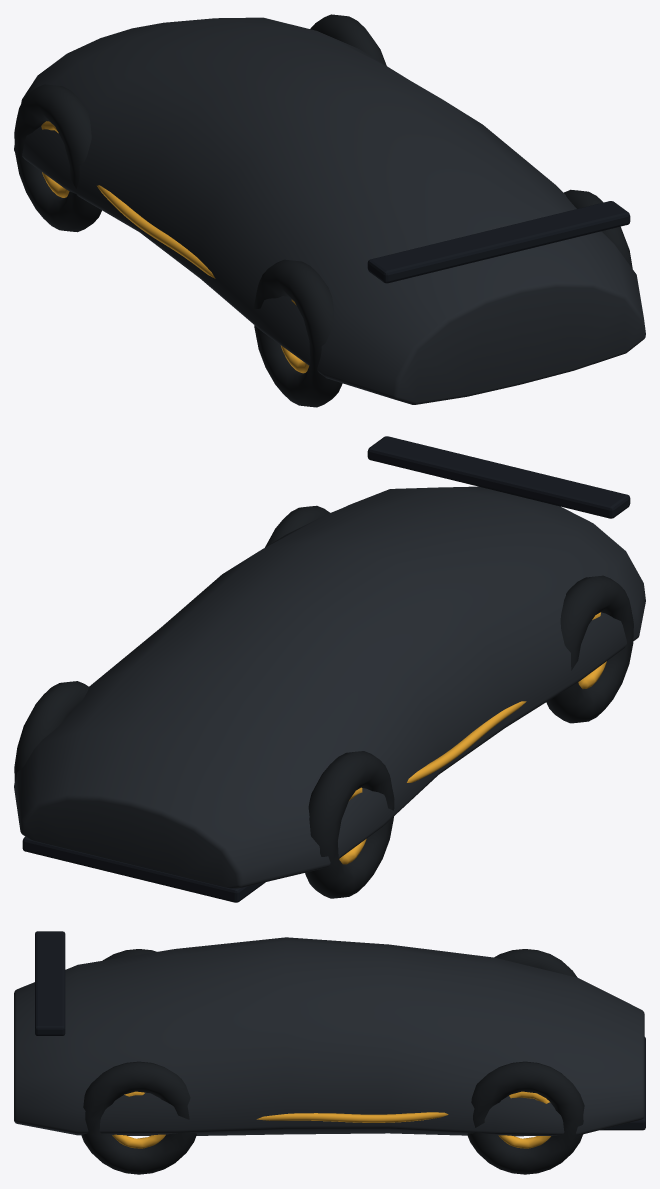
File: Rival02_Muscle_LOD0_Inspection.glb
The picture shows the model from 3 angles, top to bottom: view 1: azimuth 30°, elevation 25°; view 2: azimuth 150°, elevation 25°; view 3: azimuth 270°, elevation 25°; orthographic projection. The views are drawn at different scales.
Visible parts, largest first — view 1: Rival02_Muscle_Body_LOD0, Rival02_Muscle_Wheel_FL_LOD0, Rival02_Muscle_Wheel_RL_LOD0, Rival02_Muscle_Wheel_FR_LOD0, Rival02_Muscle_Wheel_RR_LOD0; view 2: Rival02_Muscle_Body_LOD0, Rival02_Muscle_Wheel_FL_LOD0, Rival02_Muscle_Wheel_RL_LOD0, Rival02_Muscle_Wheel_FR_LOD0, Rival02_Muscle_Wheel_RR_LOD0; view 3: Rival02_Muscle_Body_LOD0, Rival02_Muscle_Wheel_FR_LOD0, Rival02_Muscle_Wheel_RR_LOD0, Rival02_Muscle_Wheel_FL_LOD0.
Part boxes in pixels (bbox=[...]): Rival02_Muscle_Body_LOD0: bbox=[14, 17, 645, 404]; Rival02_Muscle_Wheel_FL_LOD0: bbox=[14, 84, 101, 232]; Rival02_Muscle_Wheel_RL_LOD0: bbox=[253, 259, 342, 407]; Rival02_Muscle_Wheel_FR_LOD0: bbox=[310, 14, 386, 65]; Rival02_Muscle_Wheel_RR_LOD0: bbox=[564, 189, 632, 268]; Rival02_Muscle_Body_LOD0: bbox=[14, 436, 645, 902]; Rival02_Muscle_Wheel_FL_LOD0: bbox=[305, 751, 394, 898]; Rival02_Muscle_Wheel_RL_LOD0: bbox=[546, 575, 633, 723]; Rival02_Muscle_Wheel_FR_LOD0: bbox=[14, 681, 88, 781]; Rival02_Muscle_Wheel_RR_LOD0: bbox=[265, 505, 329, 547]; Rival02_Muscle_Body_LOD0: bbox=[14, 931, 645, 1136]; Rival02_Muscle_Wheel_FR_LOD0: bbox=[467, 1061, 584, 1174]; Rival02_Muscle_Wheel_RR_LOD0: bbox=[81, 1061, 196, 1174]; Rival02_Muscle_Wheel_FL_LOD0: bbox=[494, 949, 577, 977].
Bounding box in the file's own units: 2.16 × 1.29 × 4.55.
